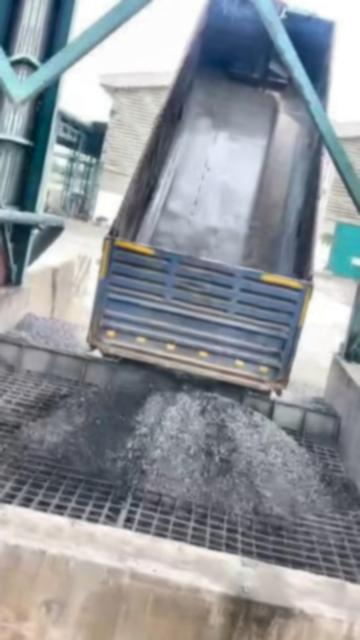gravel: (17, 389, 354, 519), (6, 313, 87, 353)
